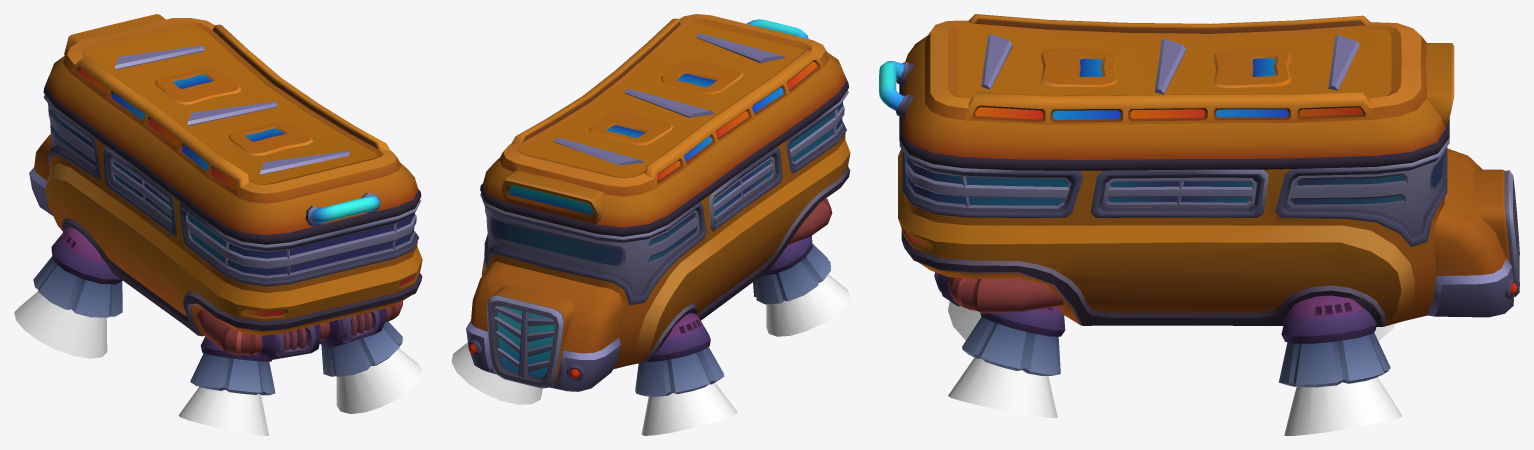
The model's file is SM_Bus_01.fbx.
3 views of the same model, side by side, from view 1: azimuth 30°, elevation 25°; view 2: azimuth 150°, elevation 25°; view 3: azimuth 270°, elevation 25° (orthographic). The views are drawn at different scales.
Visible parts, largest first — view 1: SM_Bus_01; view 2: SM_Bus_01; view 3: SM_Bus_01.
Part boxes in pixels (left/top/right/bottom): SM_Bus_01: left=14, top=14, right=422, bottom=435; SM_Bus_01: left=451, top=14, right=850, bottom=435; SM_Bus_01: left=879, top=14, right=1519, bottom=435.
Size of the model in its own units: 9.04 by 8.66 by 15.02.
